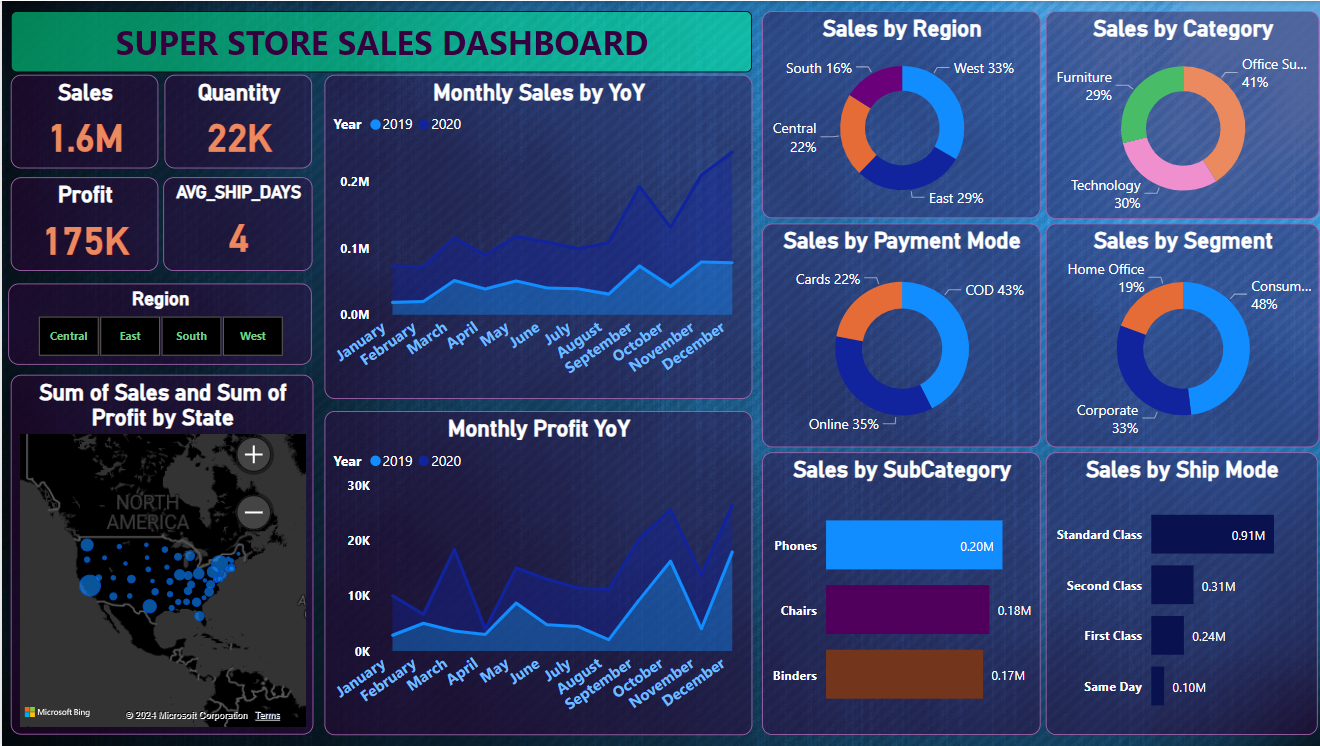

The page's visual inventory and layout, read from the dashboard file:
{"tool":"powerbi","page":{"name":"Page 1","canvas":[1280,720],"ordinal":0},"visuals":[{"type":"donutChart","title":"Sales by Category","fields":{"Category":["SuperStore_Sales.Category"],"Y":["Sum(SuperStore_Sales.Sales)"]},"box":[1007.5,10,263.8,201],"z":0},{"type":"clusteredBarChart","title":"Sales by SubCategory","fields":{"Category":["SuperStore_Sales.Sub-Category"],"Y":["Sum(SuperStore_Sales.Sales)"]},"box":[733.3,435.4,268.9,272.6],"z":1000},{"type":"clusteredBarChart","title":"Sales by Ship Mode","fields":{"Y":["Sum(SuperStore_Sales.Sales)"],"Category":["SuperStore_Sales.Ship Mode"]},"box":[1007,435.4,262,272.6],"z":2000},{"type":"stackedAreaChart","title":"Monthly Sales by YoY","fields":{"Y":["Sum(SuperStore_Sales.Sales)"],"Category":["SuperStore_Sales.Order Date.Variation.Date Hierarchy.Month","SuperStore_Sales.Order Date.Variation.Date Hierarchy.Day"],"Series":["SuperStore_Sales.Order Date.Variation.Date Hierarchy.Year"]},"box":[311.2,71.2,412.5,312.5],"z":3000},{"type":"stackedAreaChart","title":"Monthly Profit YoY","fields":{"Category":["SuperStore_Sales.Order Date.Variation.Date Hierarchy.Month","SuperStore_Sales.Order Date.Variation.Date Hierarchy.Day"],"Series":["SuperStore_Sales.Order Date.Variation.Date Hierarchy.Year"],"Y":["Sum(SuperStore_Sales.Profit)"]},"box":[311.2,395,412.5,312.5],"z":4000},{"type":"donutChart","title":" Sales by Segment","fields":{"Category":["SuperStore_Sales.Segment"],"Y":["Sum(SuperStore_Sales.Sales)"]},"box":[1007.5,215,263.8,216],"z":5000},{"type":"donutChart","title":" Sales by Payment Mode","fields":{"Category":["SuperStore_Sales.Payment Mode"],"Y":["Sum(SuperStore_Sales.Sales)"]},"box":[733.8,215,268.8,216],"z":6000},{"type":"slicer","title":"Region","fields":{"Values":["SuperStore_Sales.Region"]},"box":[6.2,272.5,292.5,78.8],"z":7000},{"type":"map","fields":{"Category":["SuperStore_Sales.State"],"Size":["Sum(SuperStore_Sales.Sales)"]},"box":[8.4,360.6,291.9,347.3],"z":8000},{"type":"textbox","box":[8.4,9.6,715.2,59.1],"z":9000},{"type":"card","title":"Sales","fields":{"Values":["Sum(SuperStore_Sales.Sales)"]},"box":[8.8,71.2,142.5,90],"z":10000},{"type":"card","title":"Quantity","fields":{"Values":["Sum(SuperStore_Sales.Quantity)"]},"box":[156.2,71.2,142.5,90],"z":11000},{"type":"card","title":"Profit","fields":{"Values":["Sum(SuperStore_Sales.Profit)"]},"box":[8.8,170,142.5,90],"z":12000},{"type":"card","title":"AVG_SHIP_DAYS","fields":{"Values":["Avg(SuperStore_Sales.AvgDelivery)"]},"box":[155,170,143.8,90],"z":13000},{"type":"donutChart","title":"Sales by Region","fields":{"Category":["SuperStore_Sales.Region"],"Y":["Sum(SuperStore_Sales.Sales)"]},"box":[733.3,9.6,268.9,200.2],"z":14000}]}

Visuals, with their boxes in screenshot pixels (x1, y1, x2, y2), scaled from the page's 1280x720 canvas onto the 1320x746 screenshot:
"Sales by Category" donutChart: [left=1039, top=10, right=1311, bottom=219]
"Sales by SubCategory" clusteredBarChart: [left=756, top=451, right=1034, bottom=734]
"Sales by Ship Mode" clusteredBarChart: [left=1038, top=451, right=1309, bottom=734]
"Monthly Sales by YoY" stackedAreaChart: [left=321, top=74, right=746, bottom=398]
"Monthly Profit YoY" stackedAreaChart: [left=321, top=409, right=746, bottom=733]
" Sales by Segment" donutChart: [left=1039, top=223, right=1311, bottom=447]
" Sales by Payment Mode" donutChart: [left=757, top=223, right=1034, bottom=447]
"Region" slicer: [left=6, top=282, right=308, bottom=364]
map - SuperStore_Sales.State x Sum(SuperStore_Sales.Sales): [left=9, top=374, right=310, bottom=733]
textbox: [left=9, top=10, right=746, bottom=71]
"Sales" card: [left=9, top=74, right=156, bottom=167]
"Quantity" card: [left=161, top=74, right=308, bottom=167]
"Profit" card: [left=9, top=176, right=156, bottom=269]
"AVG_SHIP_DAYS" card: [left=160, top=176, right=308, bottom=269]
"Sales by Region" donutChart: [left=756, top=10, right=1034, bottom=217]
